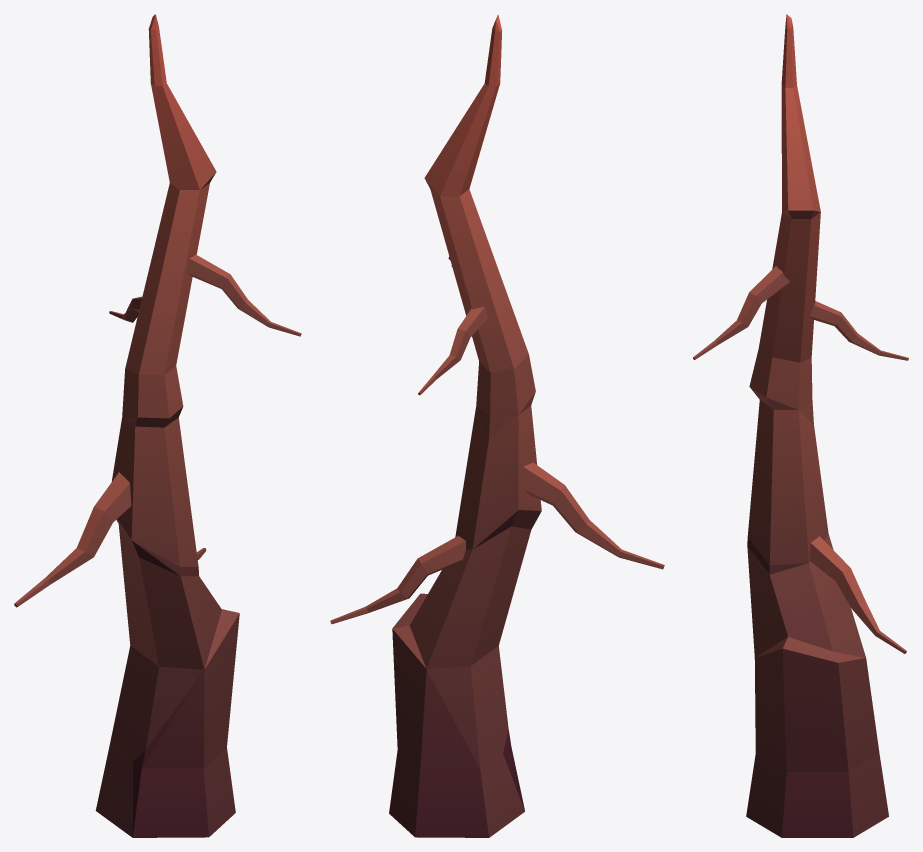
File: pine5.glb
3 renders of one model, left to right at view 1: azimuth 30°, elevation 25°; view 2: azimuth 150°, elevation 25°; view 3: azimuth 270°, elevation 25°, orthographic. The views are drawn at different scales.
Visible parts, largest first — view 1: pine5; view 2: pine5; view 3: pine5.
Boxes of the visible parts, x1,y1,x2,y2 form: pine5: (14, 14, 301, 837); pine5: (330, 14, 664, 837); pine5: (693, 14, 908, 837).
Size of the model in its own units: 2.52 by 7.36 by 1.83.
1 material, 1 textured.
